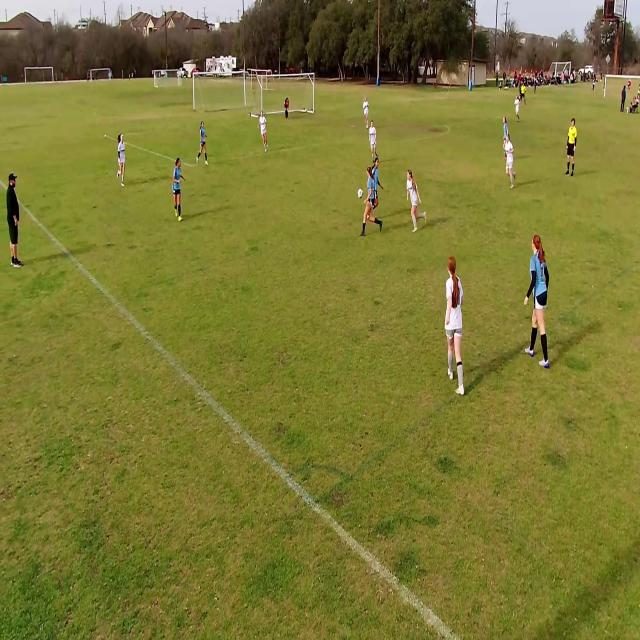Ball: (357, 188, 364, 200)
GoalKeeper: (284, 95, 290, 125)
Referee: (565, 118, 578, 178), (521, 84, 527, 107)
TEAM 1: (530, 234, 554, 368), (358, 160, 382, 237), (173, 160, 187, 231), (197, 120, 210, 165), (372, 158, 383, 192), (502, 116, 508, 139)
TEAM 2: (442, 260, 465, 397), (407, 170, 428, 233), (504, 134, 516, 189), (120, 132, 130, 186), (261, 111, 271, 154), (368, 119, 378, 160), (362, 96, 370, 131), (514, 98, 522, 129)
